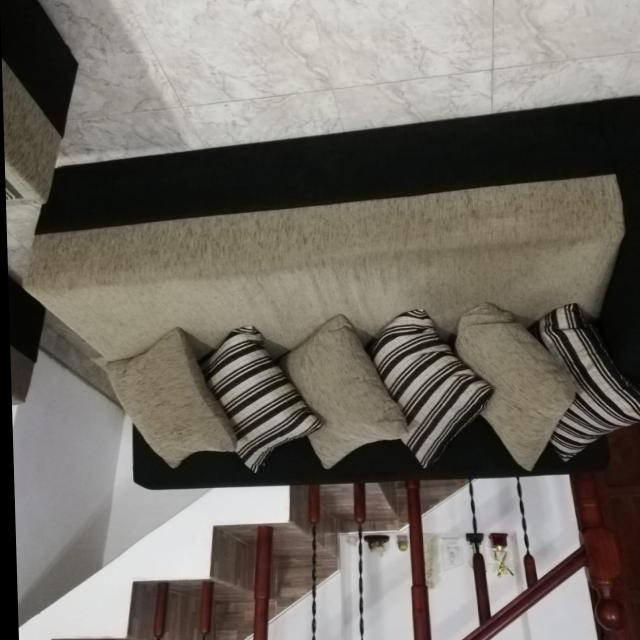Sofa: (27, 100, 640, 492)
